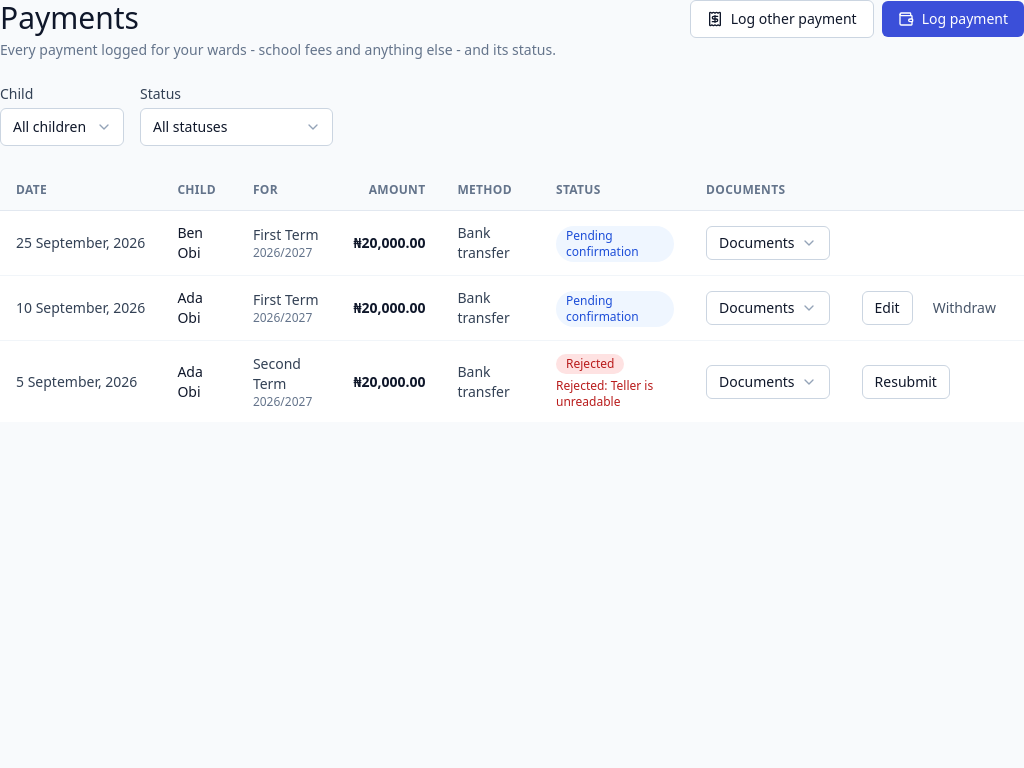
Test: WardPaymentsPage › withdraws a pending payment after confirming, then refetches
Click the button "Withdraw": (964,308) [921,291,1008,325]
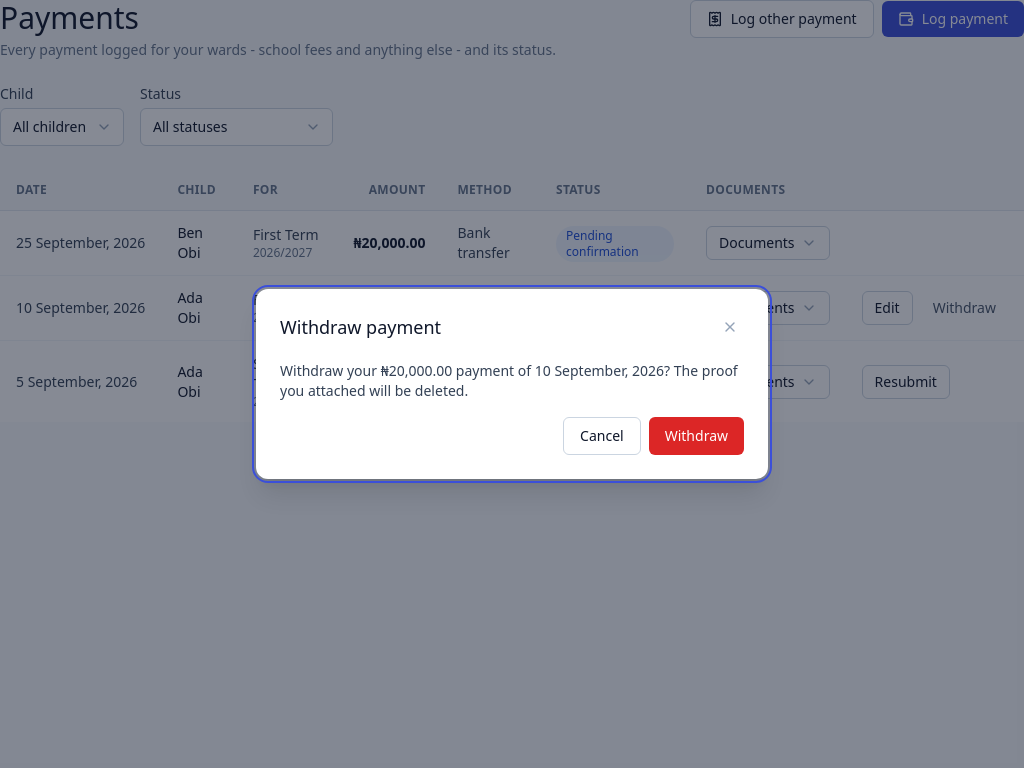
Click the button "Withdraw": (696,436) [649,417,744,455]
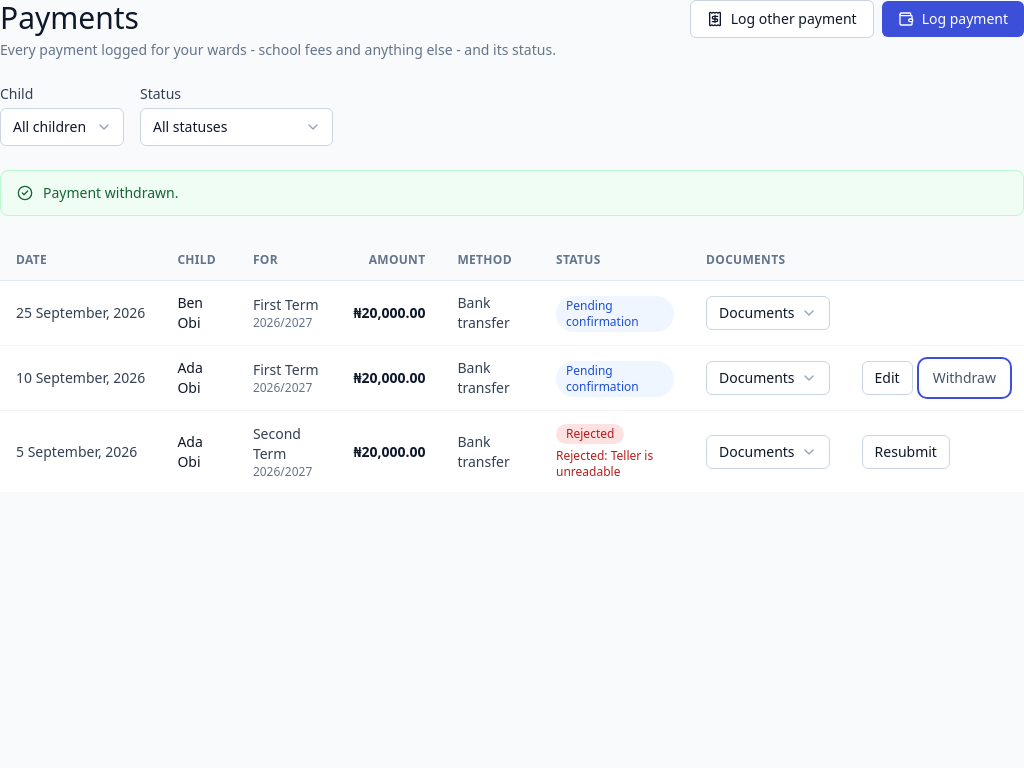
Expected: the text "Payment withdrawn." is shown, [43,183,178,203]
